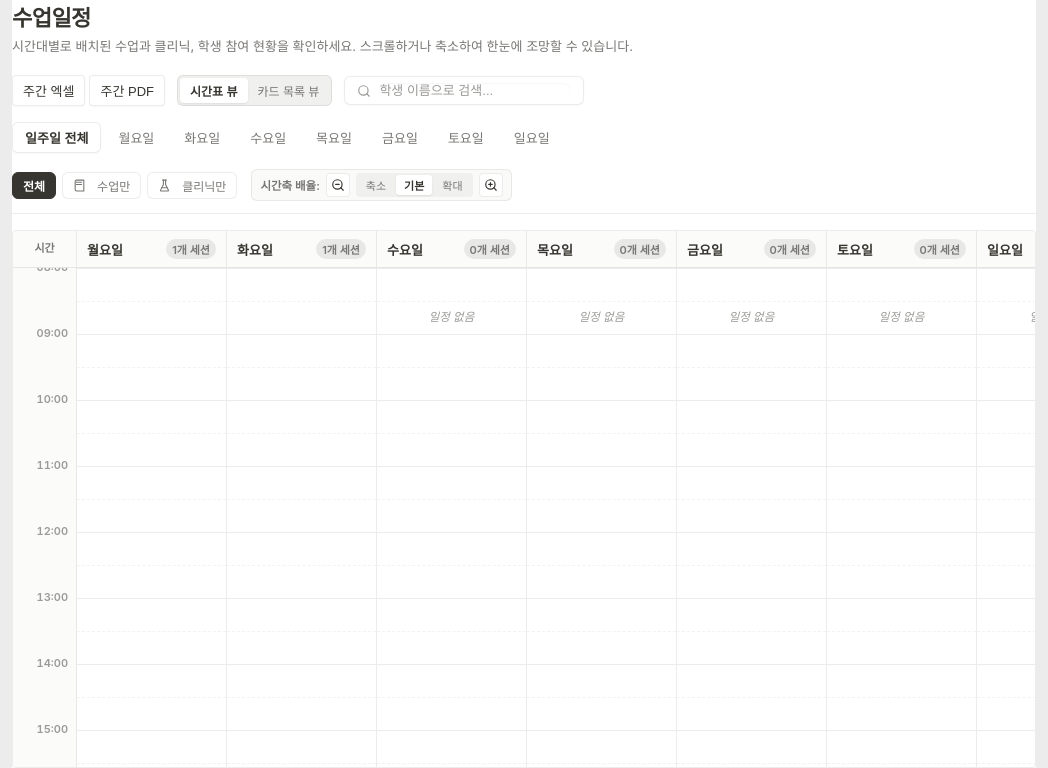
Test: WeeklySchedulePage › filters by type (classes only / clinics only)
The width and height of the screenshot is (1048, 768).
// Click '클리닉만'
What coordinates should you click on to do the following:
click the button "클리닉만"
I would click on:
 (192, 185)
Its box is top-left (147, 172), bottom-right (237, 198).
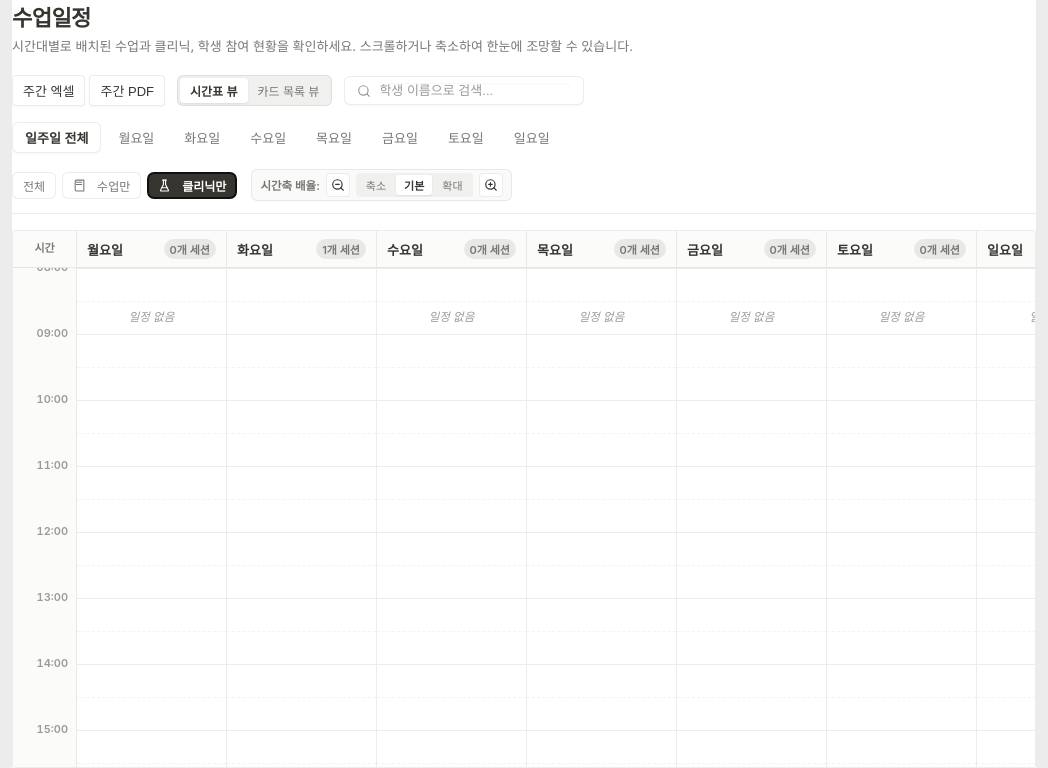
Expected: the text "고1 심화수학" is not shown
// Click '수업만'
What coordinates should you click on to do the following:
click the button "수업만"
I would click on:
 (102, 185)
Its box is top-left (62, 172), bottom-right (141, 198).
(page scrolled)
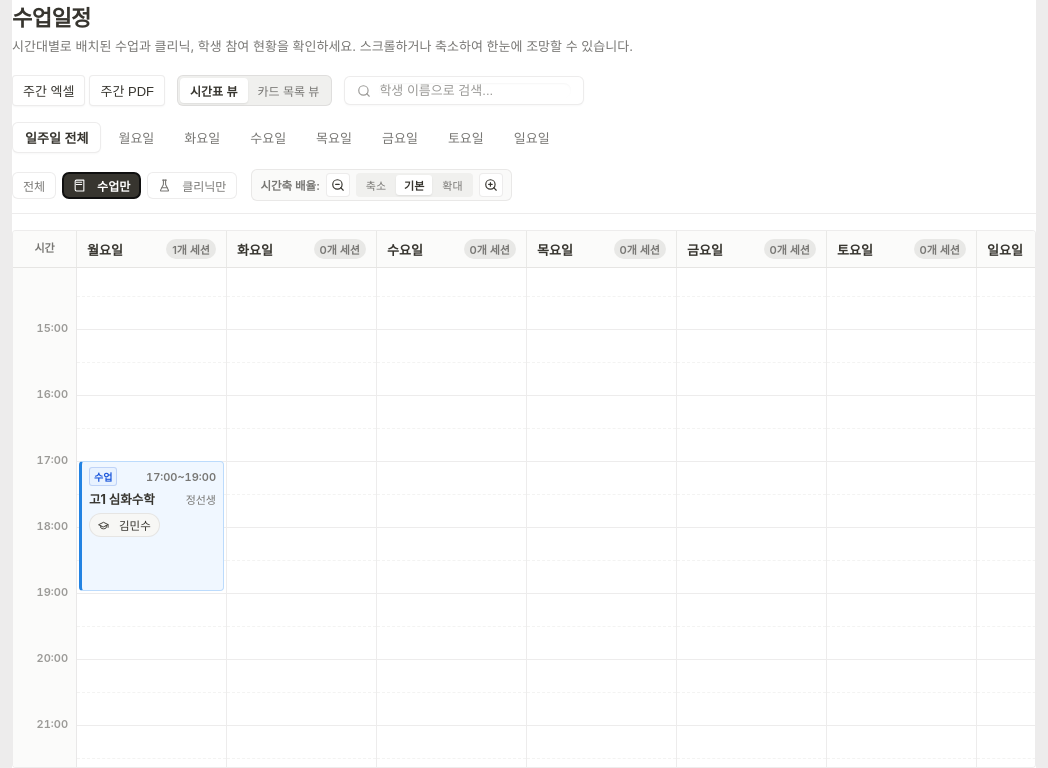
Expected: the heading "고1 심화수학" is shown, top-left (89, 492), bottom-right (155, 507)
